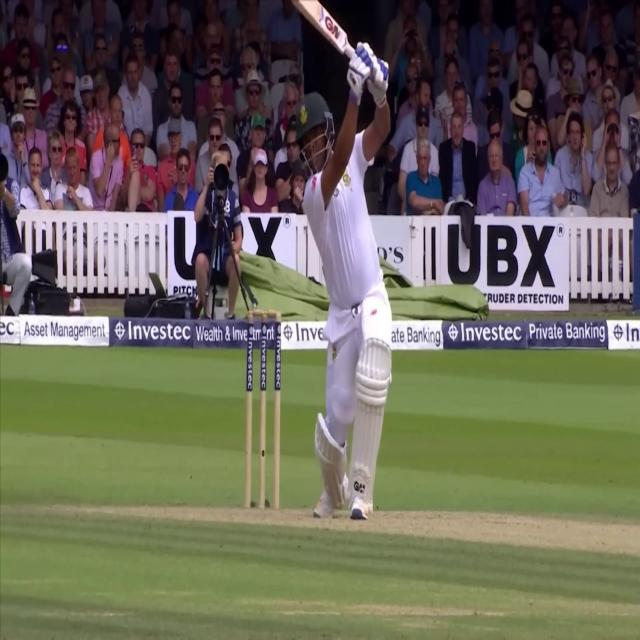Batsman: (282, 78, 404, 535)
